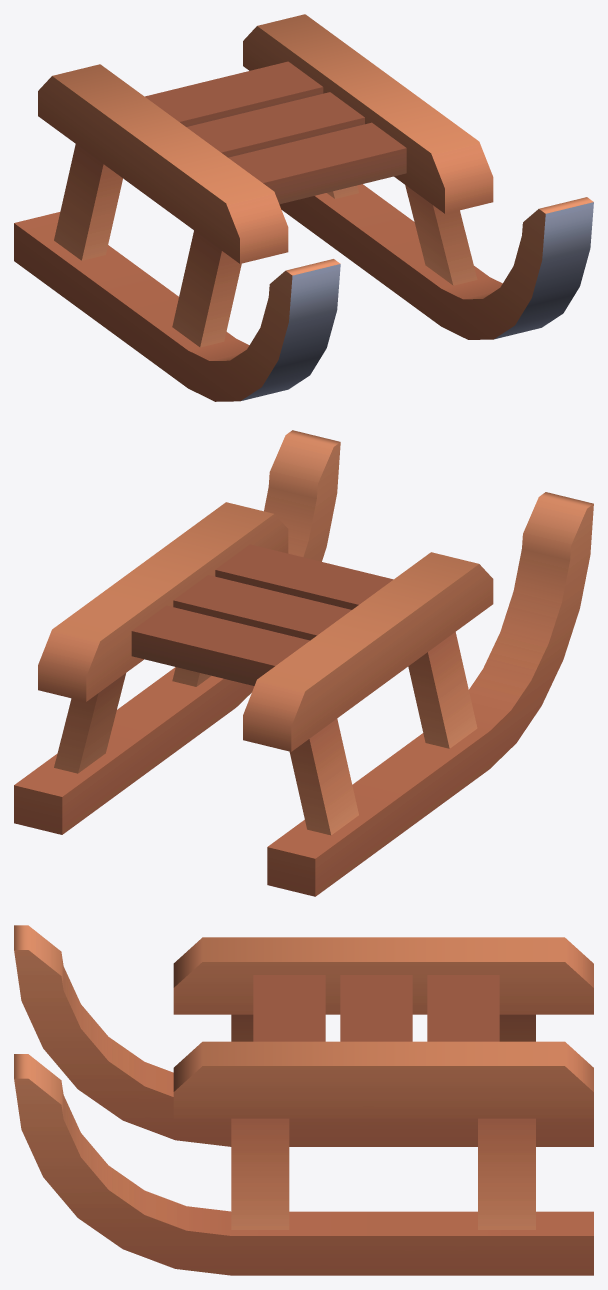
The model's file is k-holiday-sled.glb.
The picture shows the model from 3 angles, top to bottom: view 1: azimuth 30°, elevation 25°; view 2: azimuth 150°, elevation 25°; view 3: azimuth 270°, elevation 25°; orthographic projection. The views are drawn at different scales.
Parts seen in each view (by area): view 1: sled; view 2: sled; view 3: sled.
Boxes of the visible parts, left/top/right/bottom form: sled: left=14, top=14, right=593, bottom=401; sled: left=14, top=430, right=593, bottom=896; sled: left=14, top=925, right=593, bottom=1275.
Bounding box in the file's own units: 0.625 × 0.3753 × 1.
1 material, 1 textured.
